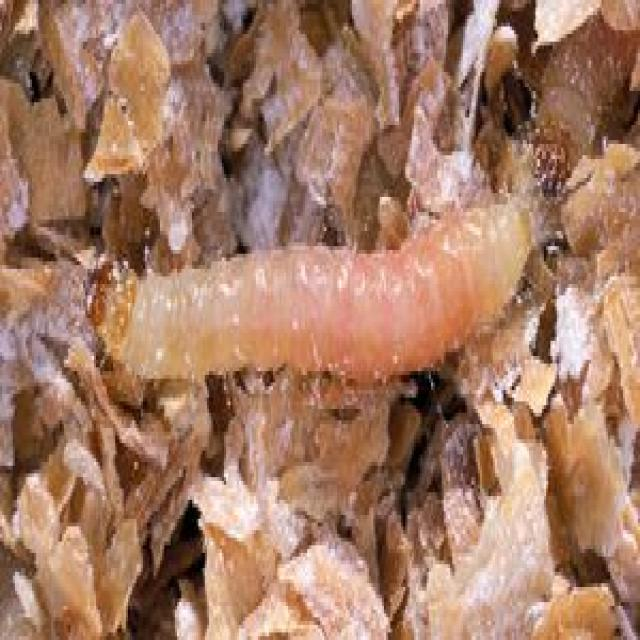cornborer-Larva-: (71, 191, 552, 408)
